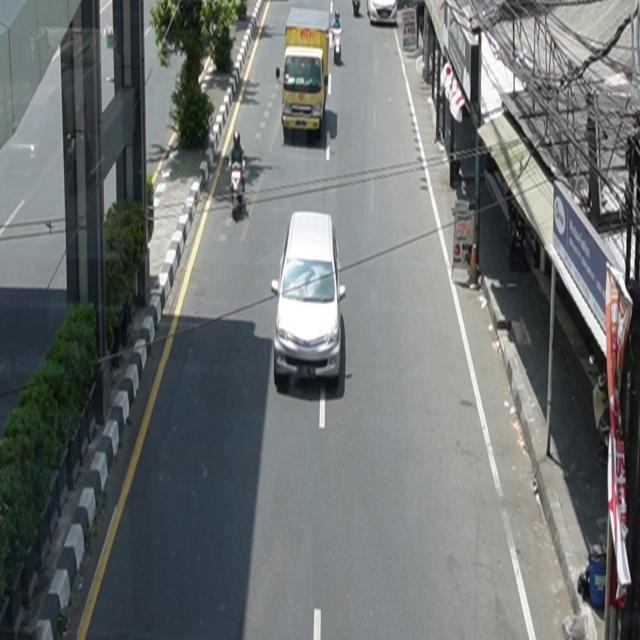car: (272, 211, 347, 387), (367, 1, 399, 26)
truck: (276, 7, 332, 140)
